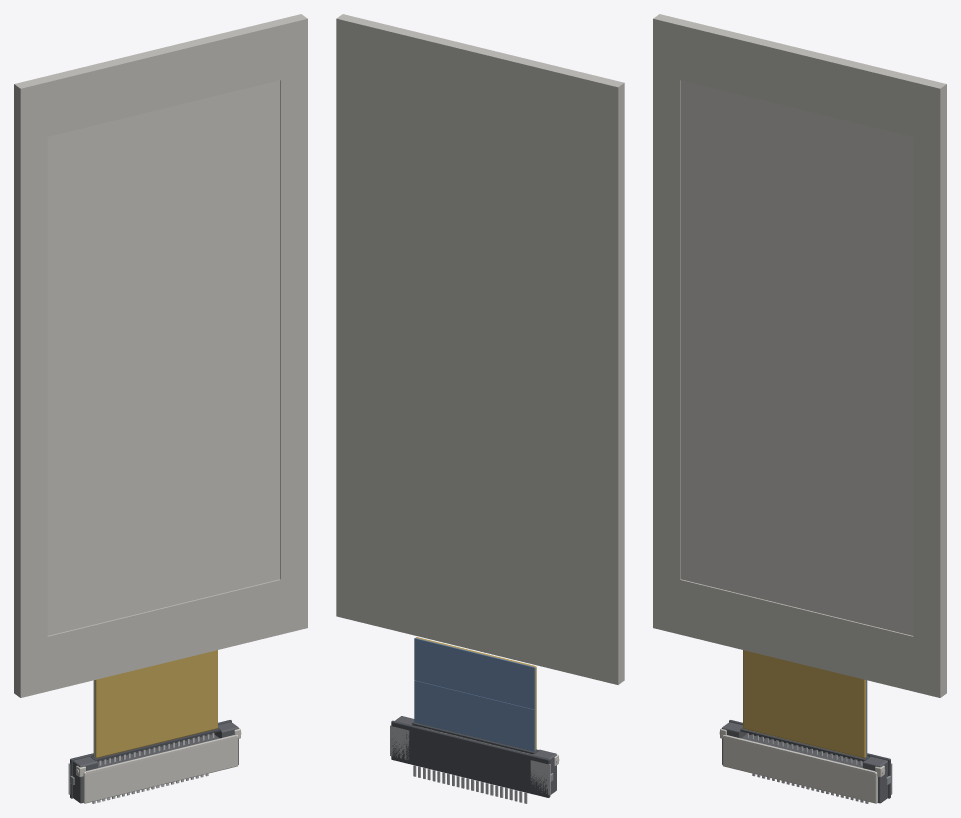
The model's file is er-epd0213-2b.glb.
The picture shows the model from 3 angles, left to right: view 1: azimuth 30°, elevation 25°; view 2: azimuth 150°, elevation 25°; view 3: azimuth 330°, elevation 25°; orthographic projection.
Visible parts, largest first — view 1: er-epd0213-2b_94, er-epd0213-2b_93, er-epd0213-2b_89, er-epd0213-2b_77, er-epd0213-2b_92, er-epd0213-2b_27; view 2: er-epd0213-2b_92, er-epd0213-2b_26, er-epd0213-2b_91, er-epd0213-2b_90, er-epd0213-2b_93, er-epd0213-2b_87, er-epd0213-2b_1, er-epd0213-2b_0; view 3: er-epd0213-2b_94, er-epd0213-2b_93, er-epd0213-2b_89, er-epd0213-2b_77, er-epd0213-2b_92, er-epd0213-2b_27.
Part boxes in pixels (box(x1,y1,x2,y2)): er-epd0213-2b_94: box(47, 80, 279, 635); er-epd0213-2b_93: box(18, 17, 307, 697); er-epd0213-2b_89: box(94, 650, 217, 758); er-epd0213-2b_77: box(83, 735, 238, 803); er-epd0213-2b_92: box(14, 14, 305, 696); er-epd0213-2b_27: box(72, 722, 238, 803); er-epd0213-2b_92: box(336, 15, 622, 684); er-epd0213-2b_26: box(391, 720, 550, 797); er-epd0213-2b_91: box(414, 638, 535, 709); er-epd0213-2b_90: box(414, 680, 535, 751); er-epd0213-2b_93: box(341, 14, 624, 681); er-epd0213-2b_87: box(405, 734, 512, 779); er-epd0213-2b_1: box(390, 725, 409, 759); er-epd0213-2b_0: box(530, 760, 550, 794); er-epd0213-2b_94: box(681, 80, 913, 635); er-epd0213-2b_93: box(653, 17, 942, 697); er-epd0213-2b_89: box(743, 650, 866, 758); er-epd0213-2b_77: box(722, 735, 877, 803); er-epd0213-2b_92: box(655, 14, 946, 696); er-epd0213-2b_27: box(722, 722, 888, 803).
Bounding box in the file's own units: 29.2 × 72.46 × 2.47.
